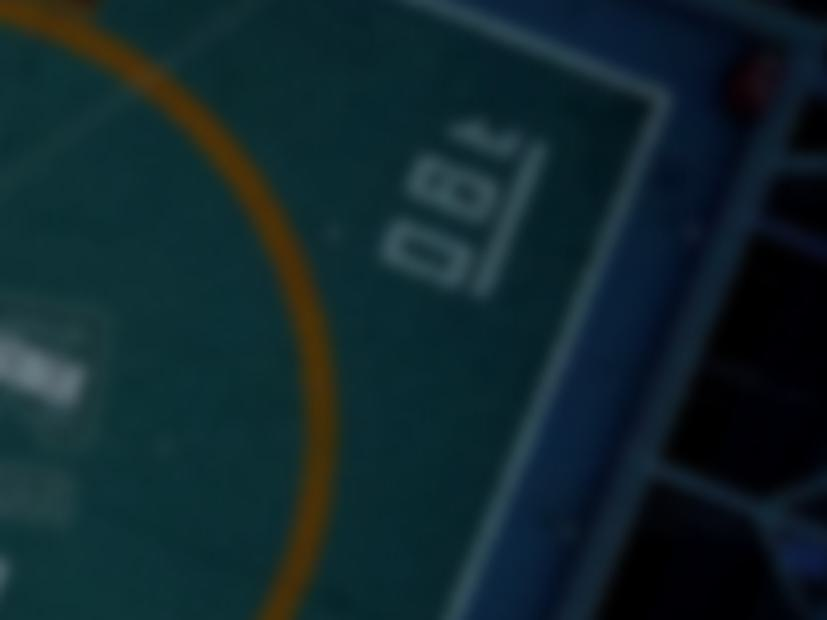Apron: (19, 1, 345, 614)
